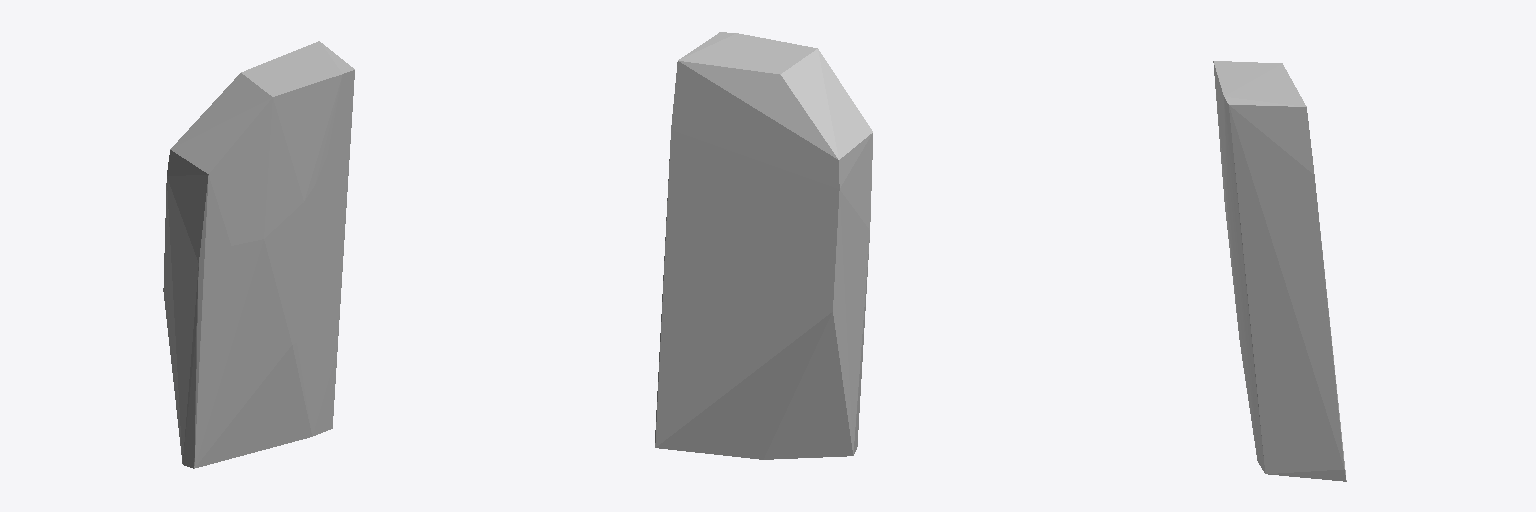
File: trash_bin_collision_17.obj
The picture shows the model from 3 angles: view 1: azimuth 30°, elevation 25°; view 2: azimuth 150°, elevation 25°; view 3: azimuth 270°, elevation 25°; orthographic projection.
Bounding box in the file's own units: 0.0448 × 0.1001 × 0.0322.